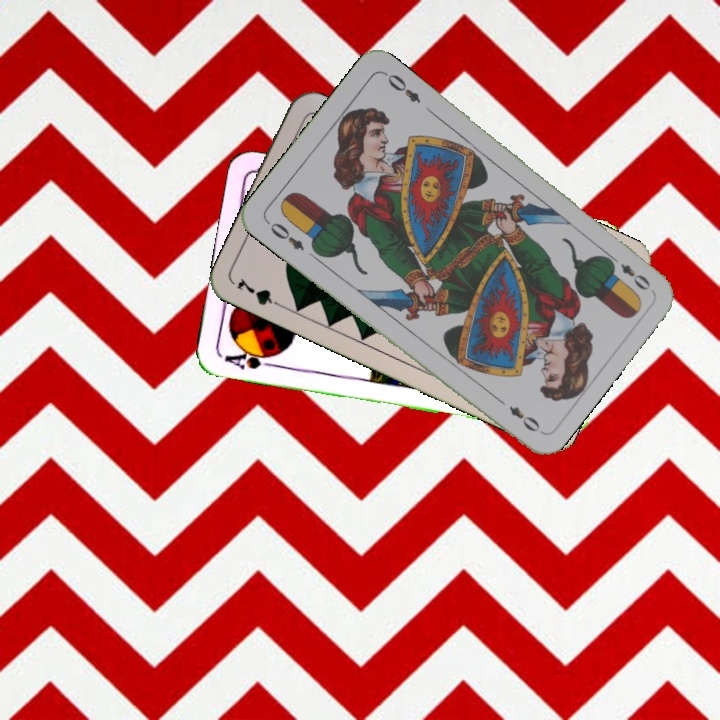EO: (604, 250, 653, 293), (262, 216, 307, 254)
G7: (233, 273, 287, 312)
SA: (220, 344, 280, 373)
